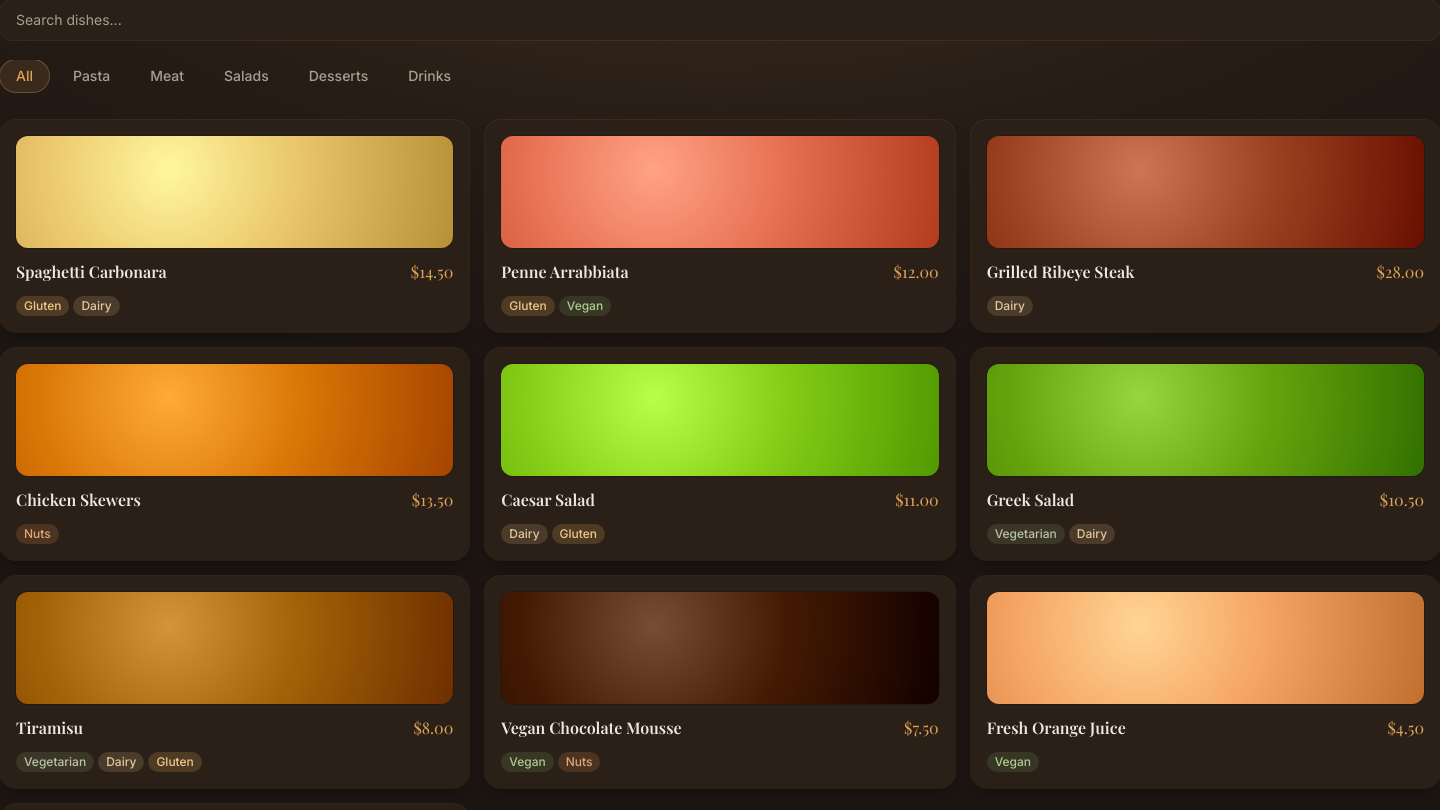
Scenario: MenuPage › shows a message when no dish matches
This screenshot has width=1440, height=810.
Type "nonexistent" into the search field with placeholder "Search dishes...".
click(720, 20); type("nonexistent")  # box [0,0,1439,40]
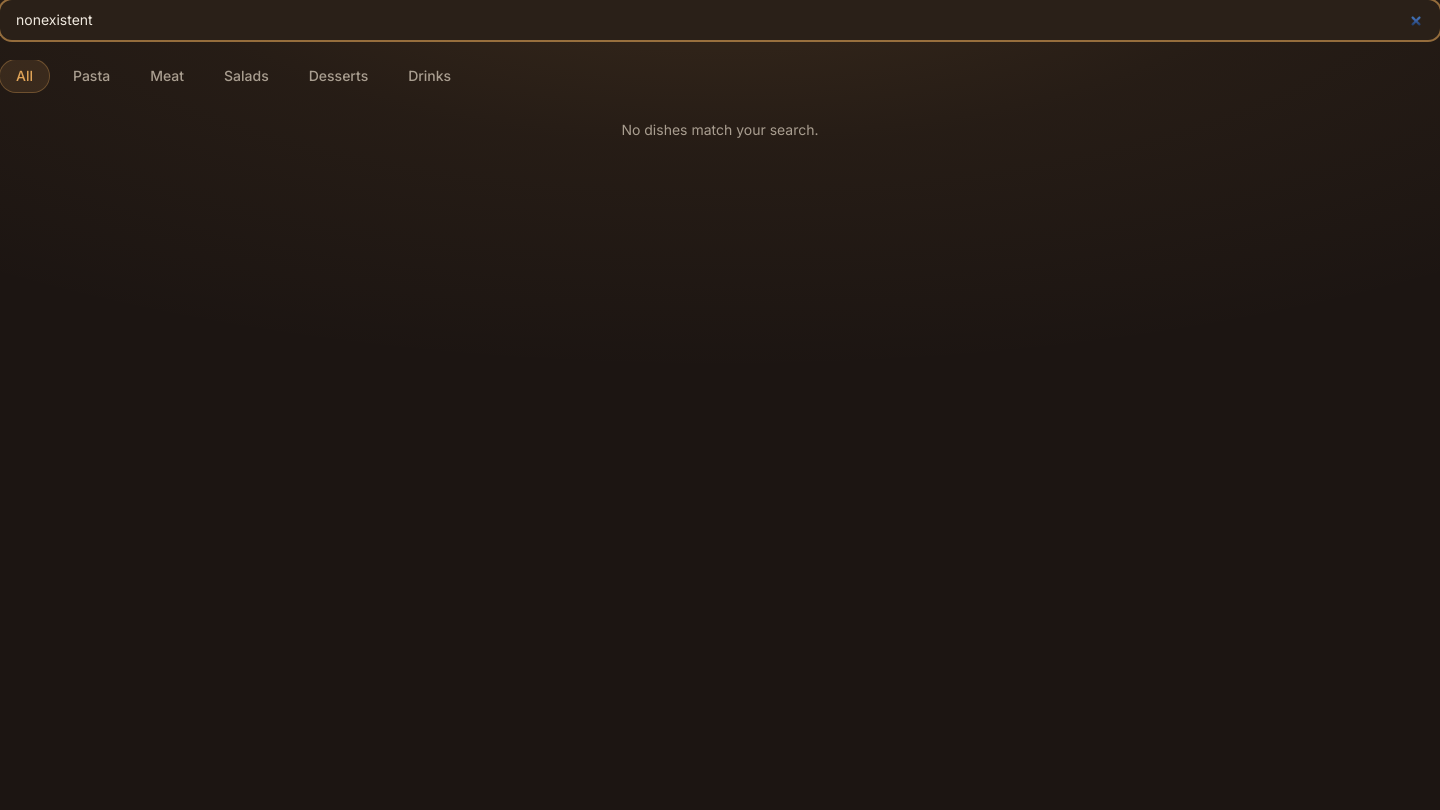
Check: the text "No dishes match your search." is shown, box [621,121,819,138]
